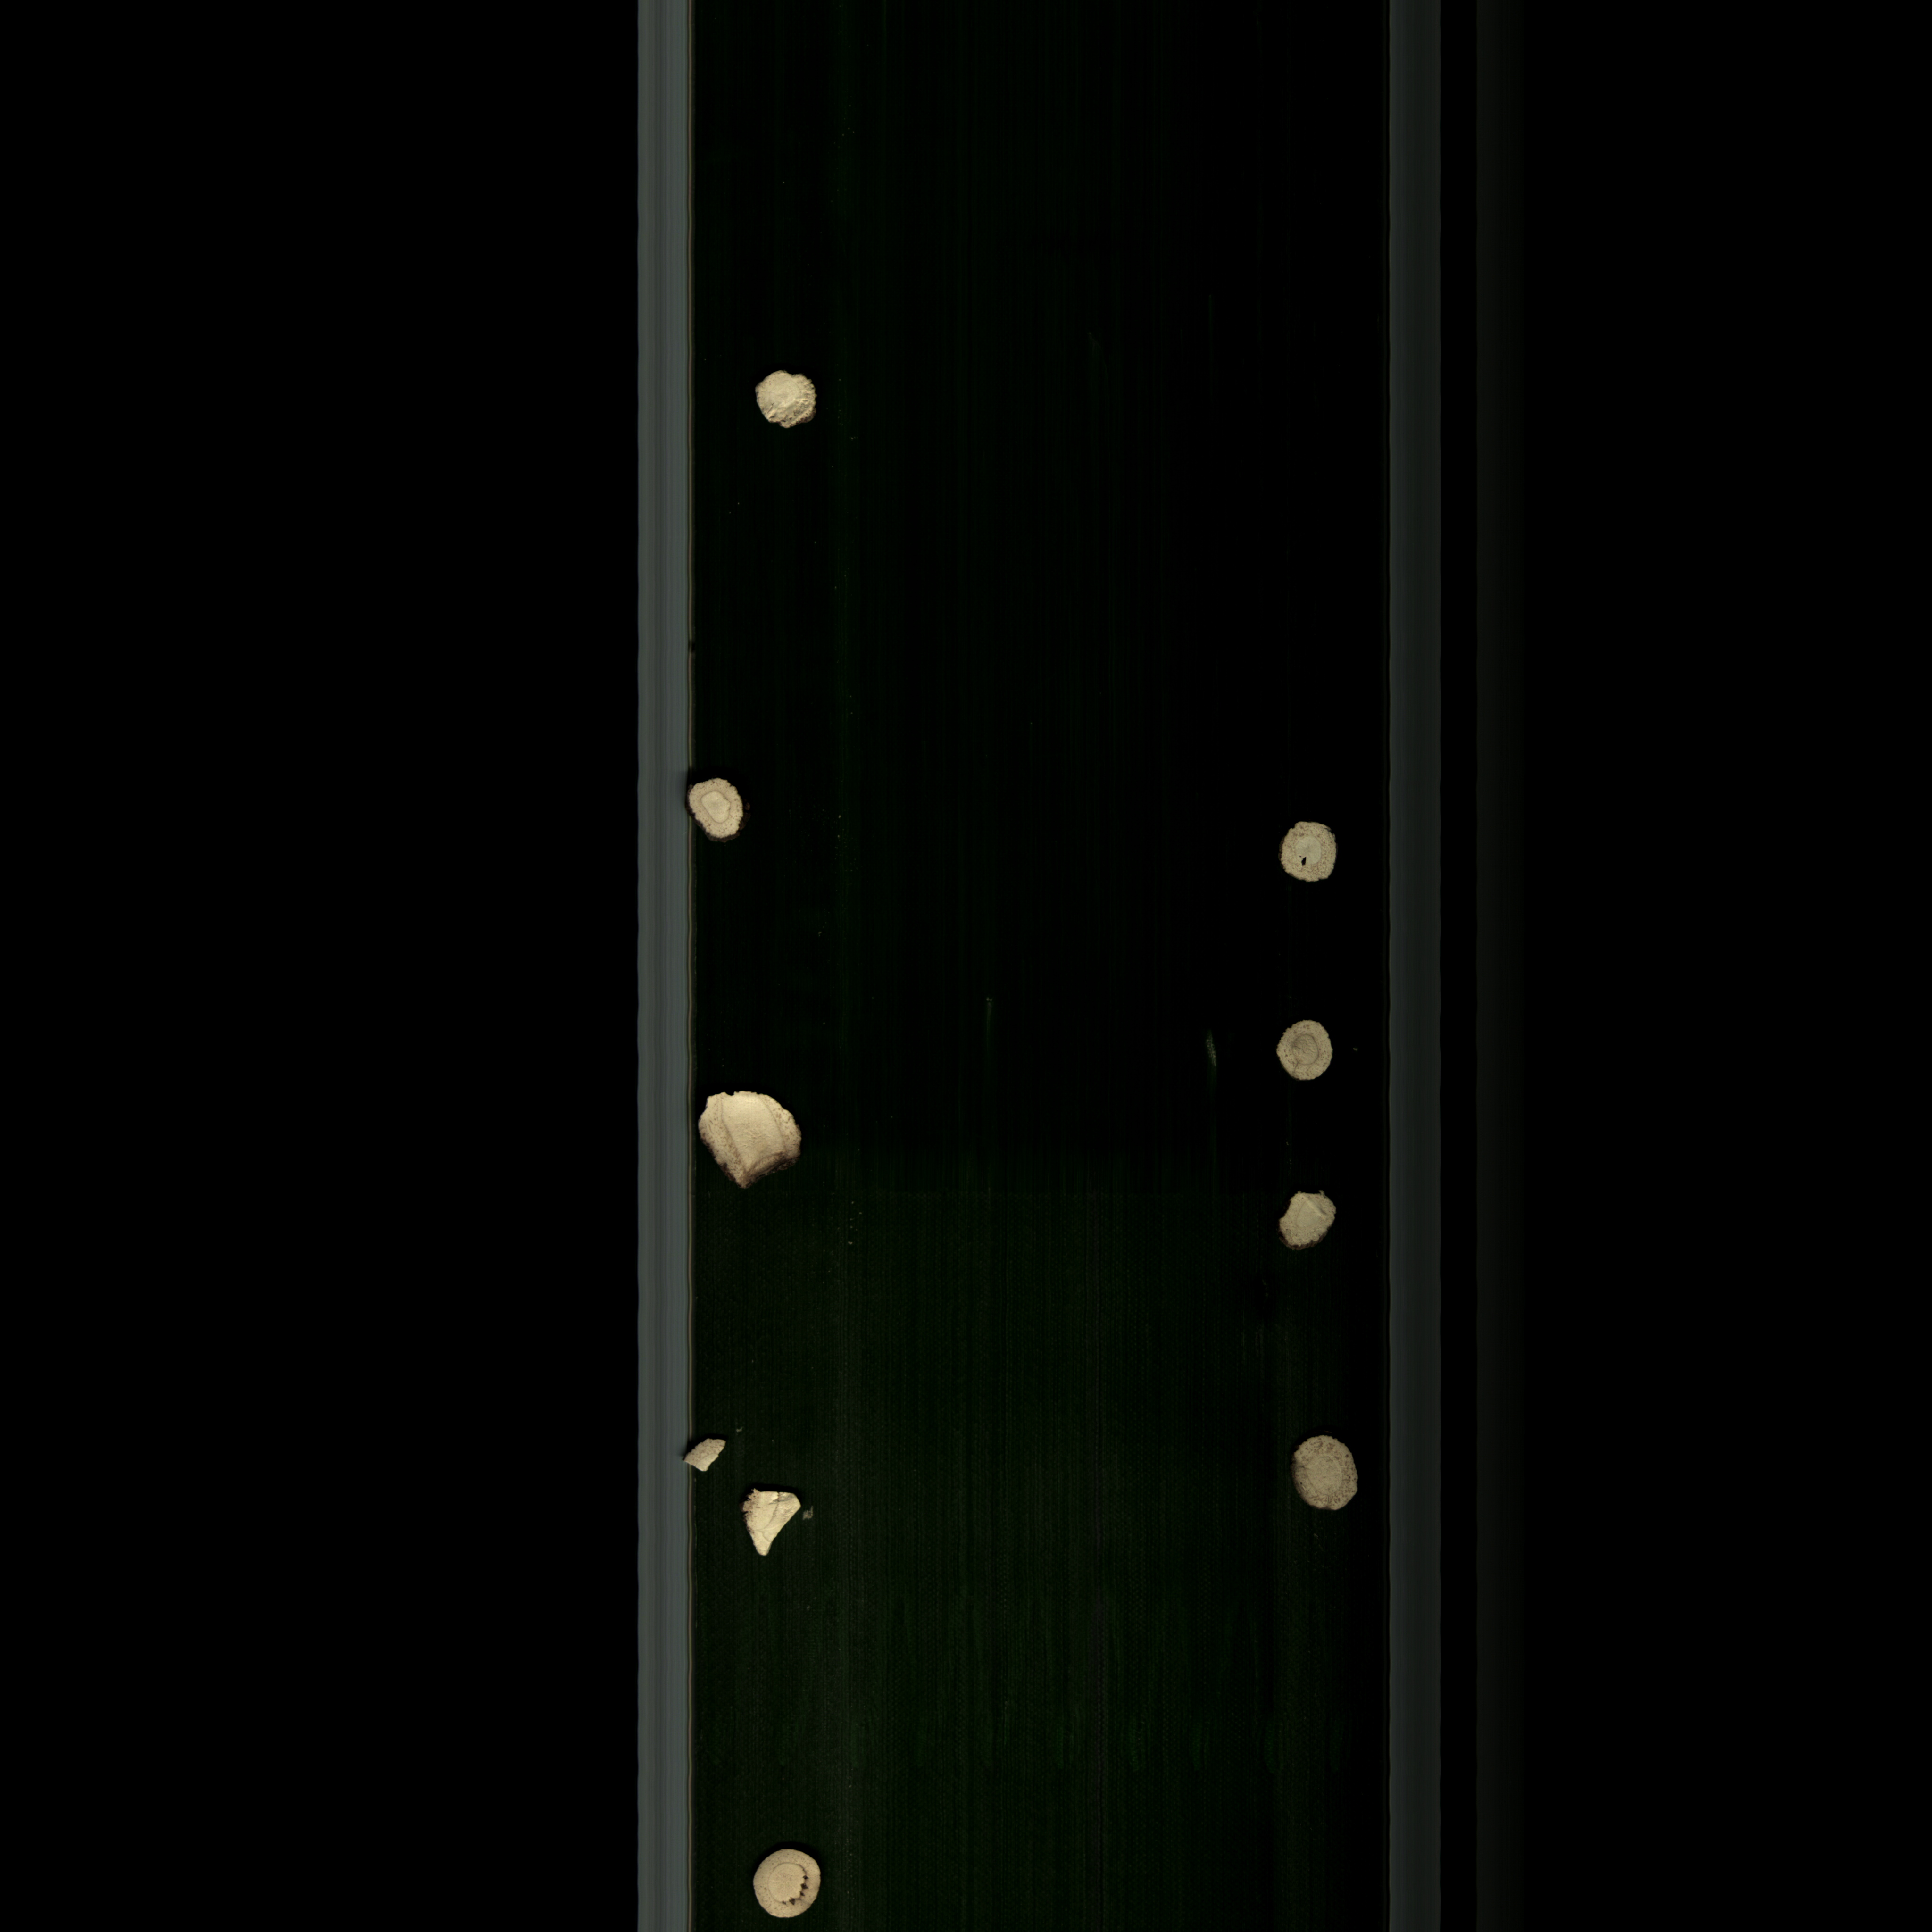debris: (690, 1083, 817, 1196), (743, 363, 835, 435), (741, 1479, 814, 1564), (1272, 1180, 1343, 1256)
dreg: (681, 1433, 740, 1481)
hole: (748, 1845, 832, 1927), (1270, 812, 1348, 897)
moldy: (1290, 1430, 1369, 1520)
